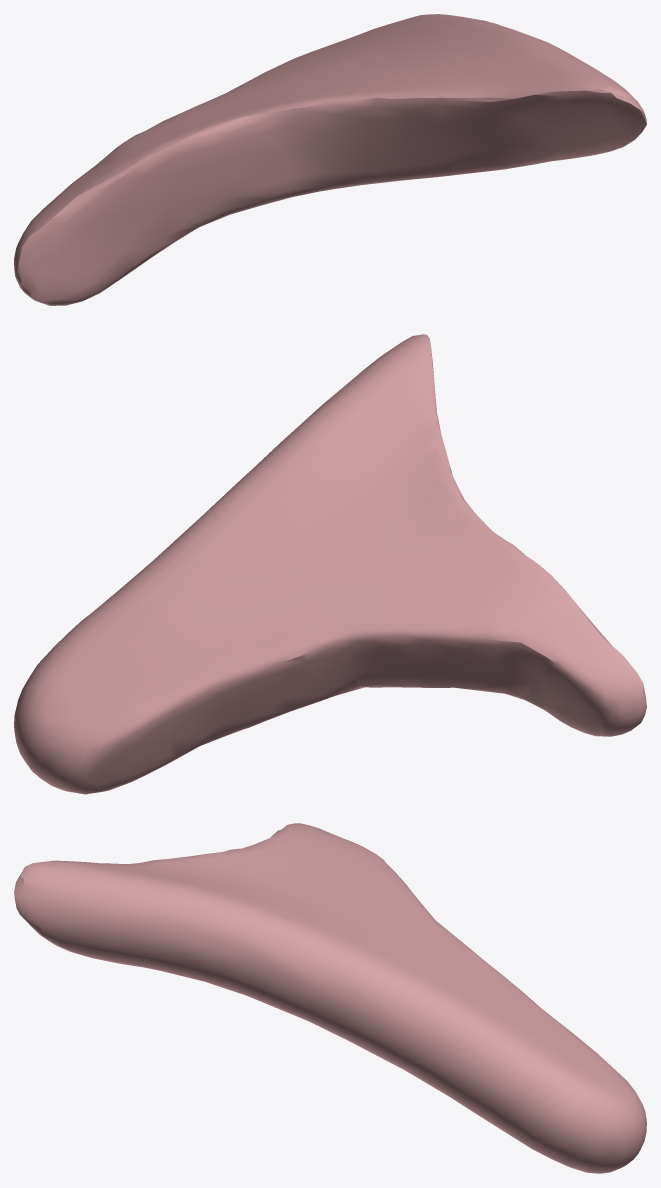
Rendered from fma9508_mm526.glb.
3 renders of one model, top to bottom at view 1: azimuth 30°, elevation 25°; view 2: azimuth 150°, elevation 25°; view 3: azimuth 270°, elevation 25°, orthographic. The views are drawn at different scales.
Visible parts, largest first — view 1: FMA9508_MM526; view 2: FMA9508_MM526; view 3: FMA9508_MM526.
Boxes of the visible parts, <box> form: FMA9508_MM526: <box>14,14,646,305</box>; FMA9508_MM526: <box>14,334,646,794</box>; FMA9508_MM526: <box>14,823,646,1173</box>.
Bounding box in the file's own units: 0.0126 × 0.00633 × 0.0136.
